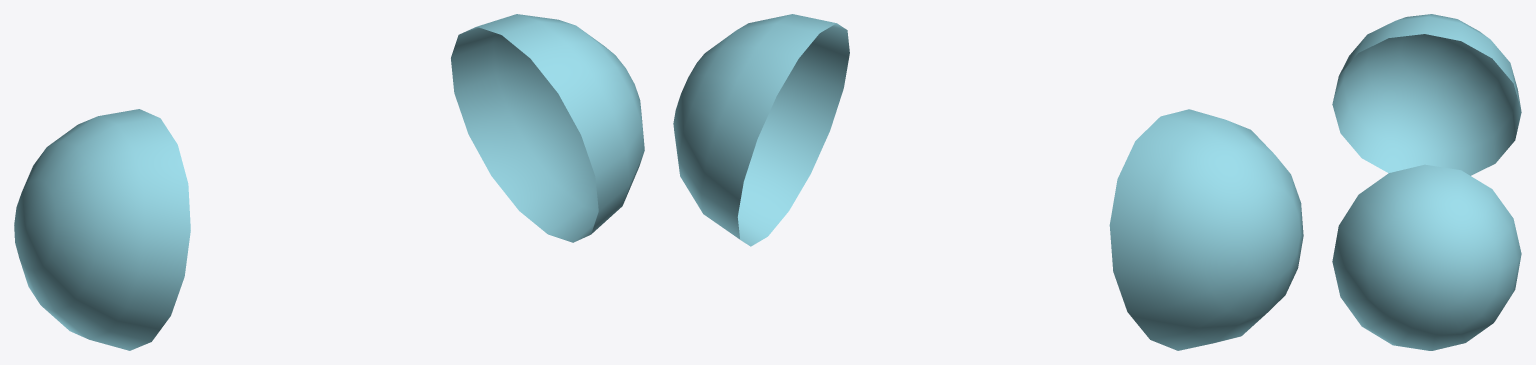
Rendered from Shrimp_Eye_Caridid.fbx.
3 renders of one model, left to right at view 1: azimuth 30°, elevation 25°; view 2: azimuth 150°, elevation 25°; view 3: azimuth 270°, elevation 25°, orthographic. The views are drawn at different scales.
Parts seen in each view (by area): view 1: Eye_low; view 2: Eye_low; view 3: Eye_low.
Boxes of the visible parts, x1=… form: Eye_low: x1=14, y1=14, x2=644, y2=350; Eye_low: x1=673, y1=14, x2=1303, y2=350; Eye_low: x1=1332, y1=14, x2=1521, y2=350.
Bounding box in the file's own units: 27.7 × 9.53 × 9.67.
